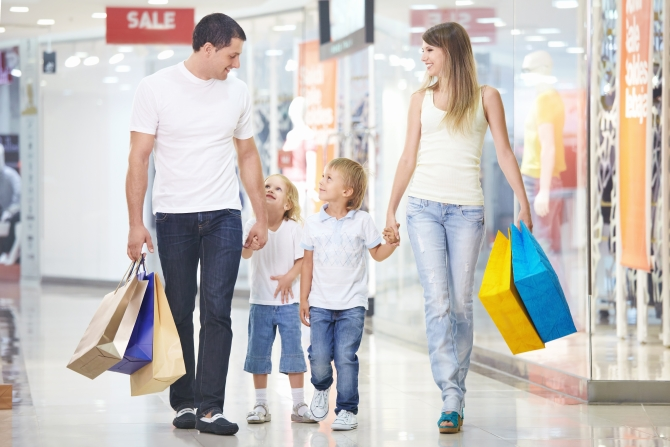Person: (383, 28, 547, 423), (127, 12, 258, 443), (312, 161, 394, 441), (260, 177, 306, 428)
